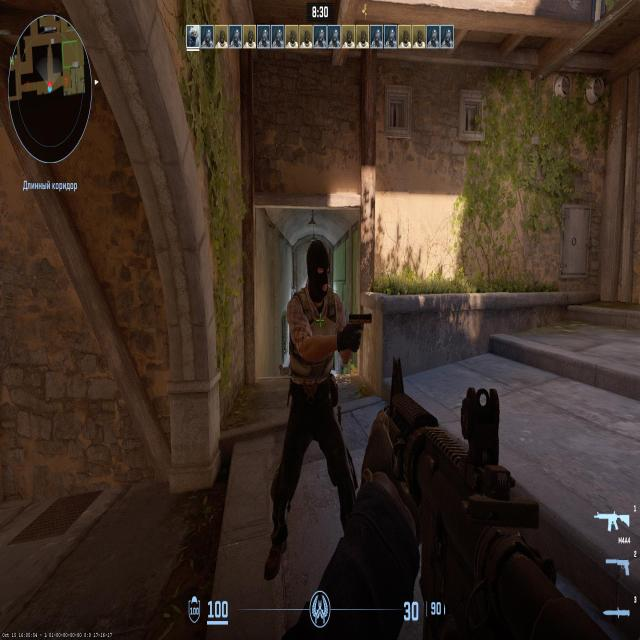T: (297, 243, 340, 500)
T_heat: (312, 268, 328, 309)
